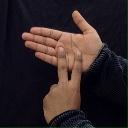hand: (22, 10, 104, 73), (43, 47, 81, 125)
